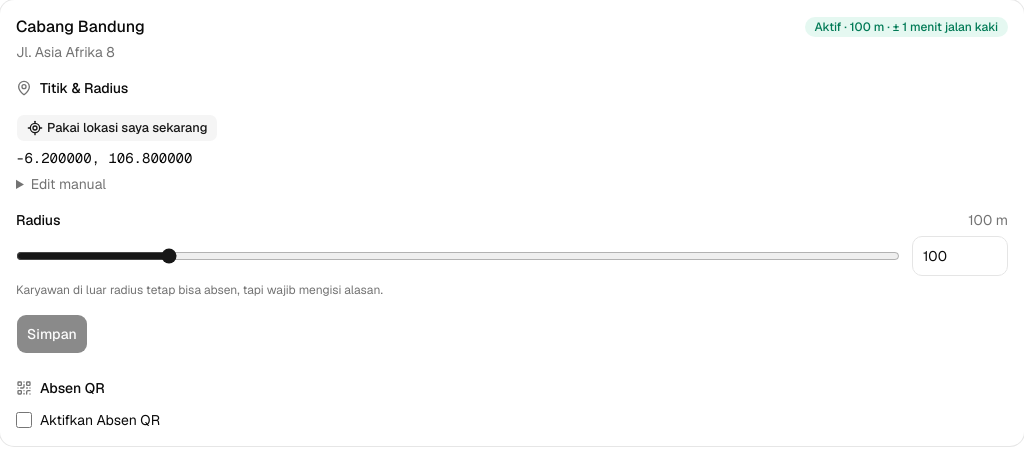
Scenario: LocationForm › populates the read-only lat/long from a mocked position
What coordinates should you click on to do the following:
click the button "Pakai lokasi saya sekarang"
I would click on:
 (117, 128)
Its box is [16, 114, 218, 142].
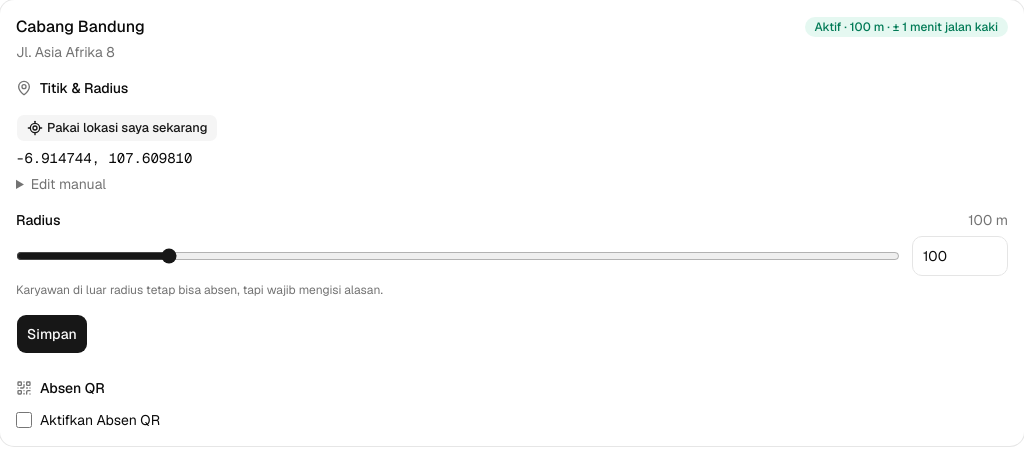
Check: the text "-6.914744, 107.609810" is shown, box [16, 149, 192, 167]
